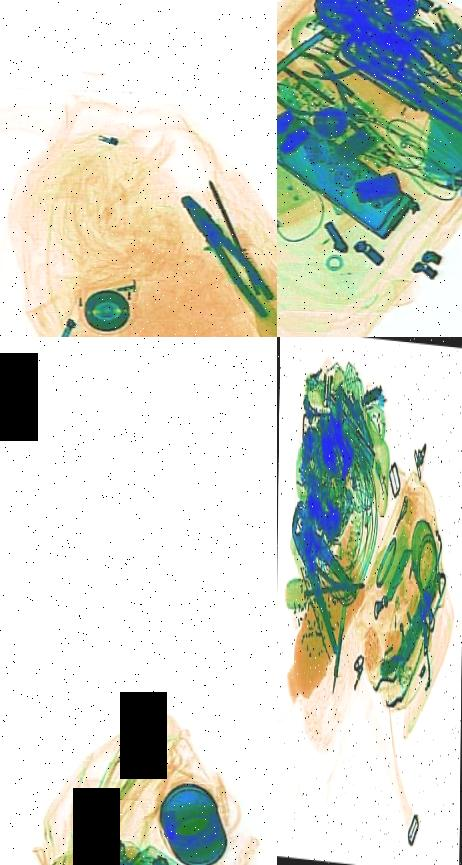Pliers: (170, 178, 277, 322), (282, 472, 358, 658), (277, 40, 379, 147)
Wrench: (405, 20, 462, 88)
